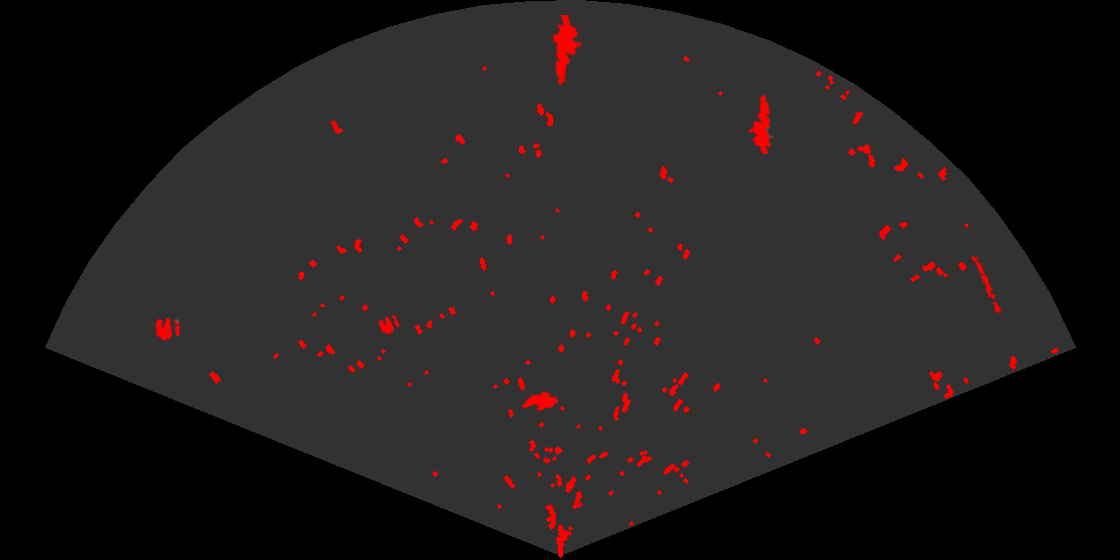AUV: (520, 390, 560, 413)
ball: (154, 316, 182, 342), (377, 313, 402, 336)
chain: (969, 251, 1003, 316)
frogman: (551, 15, 584, 86), (747, 93, 775, 154)
